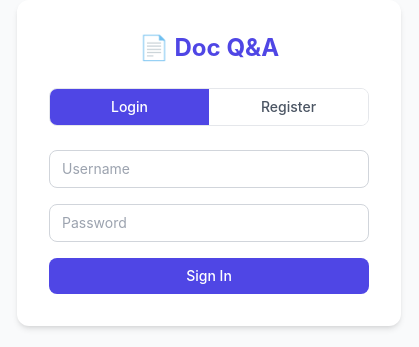
Test: AuthPage › switches to register mode
The width and height of the screenshot is (419, 347).
Click the button "Register".
click(288, 107)  # box [209,89,368,125]
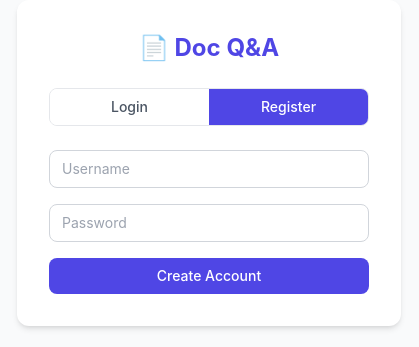
Check: the button "Create Account" is shown, box [49,258,369,294]
